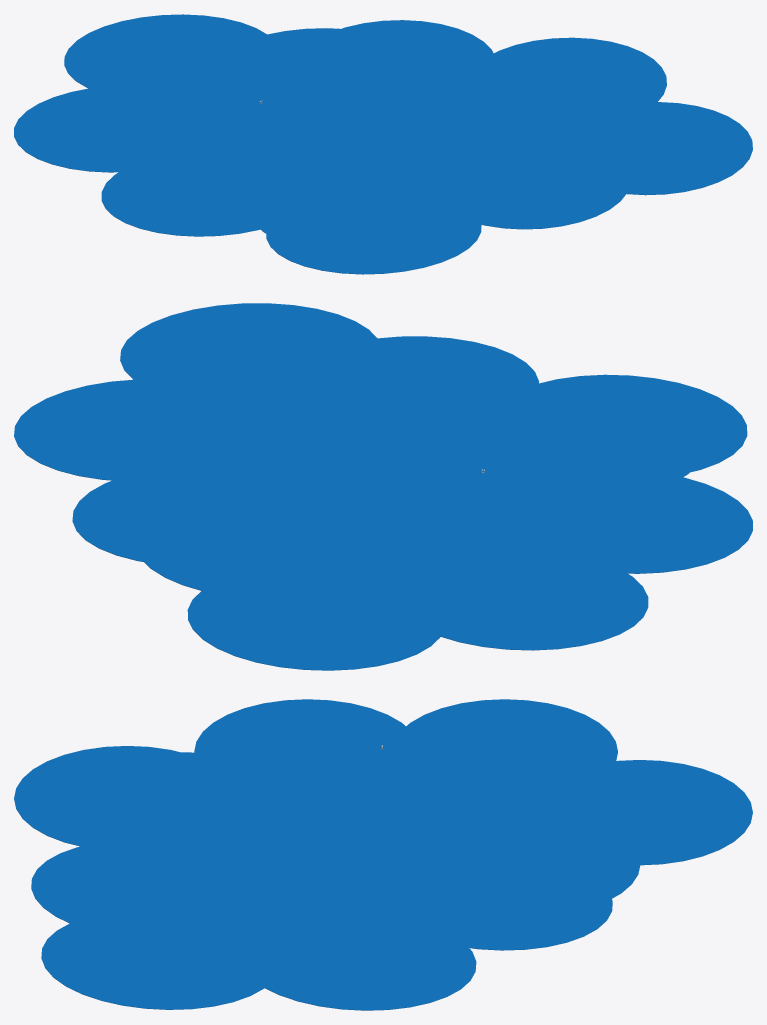
File: lago.obj
3 renders of one model, top to bottom at view 1: azimuth 30°, elevation 25°; view 2: azimuth 150°, elevation 25°; view 3: azimuth 270°, elevation 25°, orthographic. The views are drawn at different scales.
Parts seen in each view (by area): view 1: Cylinder.002_Cylinder.003; view 2: Cylinder.002_Cylinder.003; view 3: Cylinder.002_Cylinder.003.
Part boxes in pixels (left/top/right/bottom): Cylinder.002_Cylinder.003: left=14, top=14, right=752, bottom=274; Cylinder.002_Cylinder.003: left=14, top=303, right=752, bottom=670; Cylinder.002_Cylinder.003: left=14, top=699, right=752, bottom=1010.
Size of the model in its own units: 203 by 16.23 by 204.
